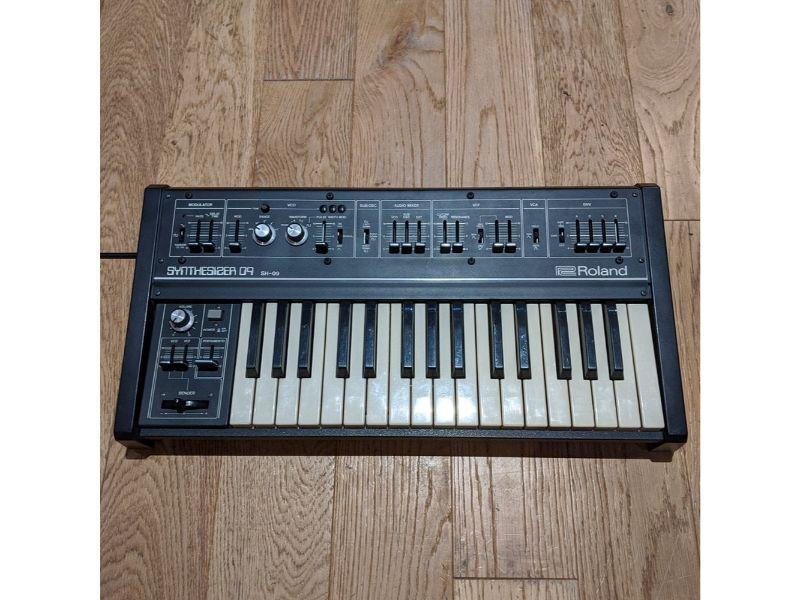synthesizer: (117, 177, 687, 466)
